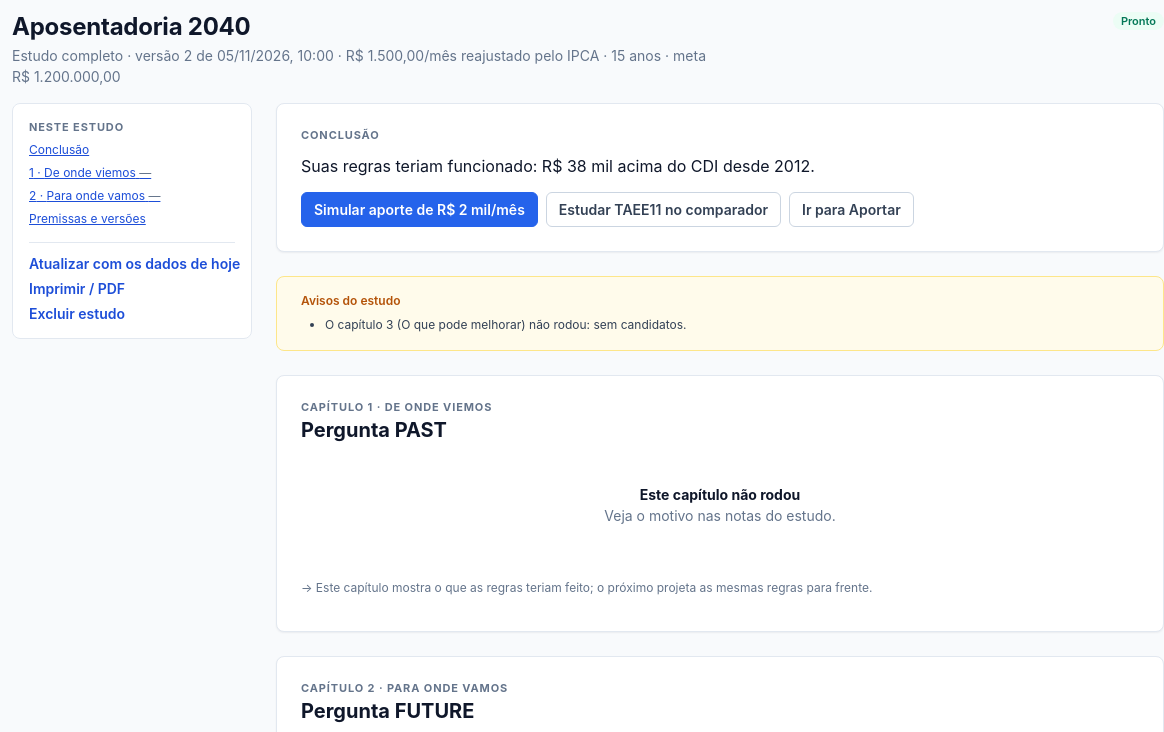
Test case: study page › deletes the study for good after asking
This screenshot has width=1164, height=732.
Click the button "Excluir estudo": x=77, y=314 [29,305,125,322]
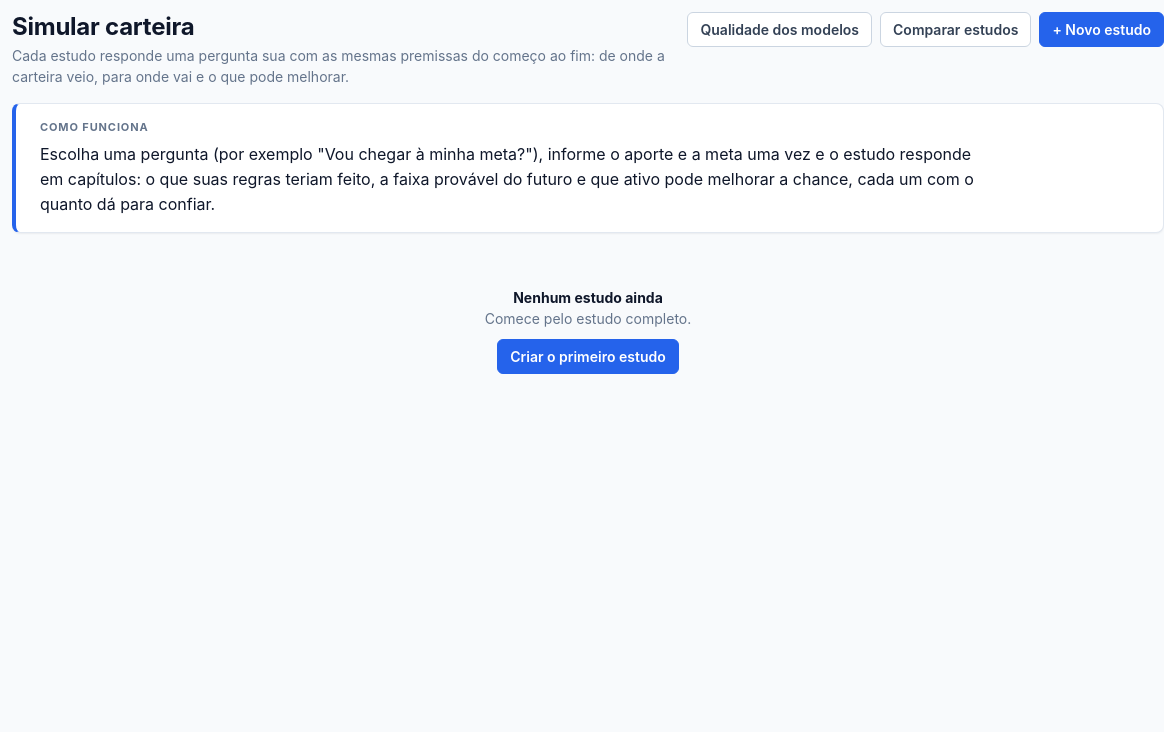
Expected: the text "Nenhum estudo ainda" is shown, [513,289,663,306]
